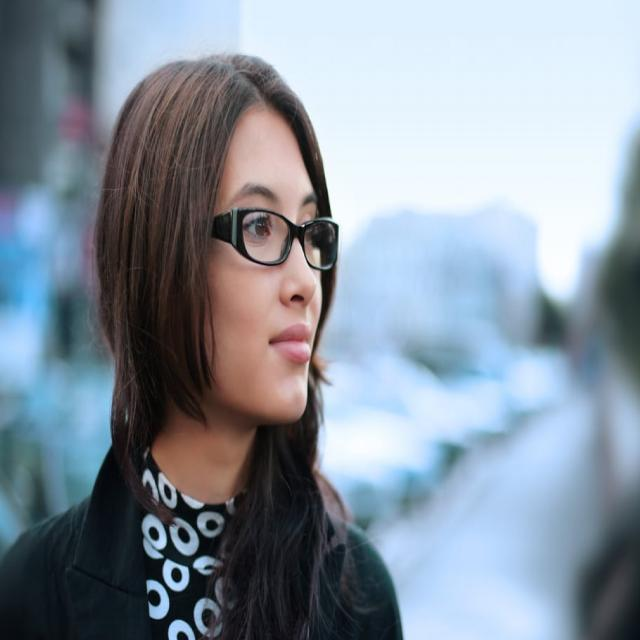Glasses: (212, 200, 342, 276)
